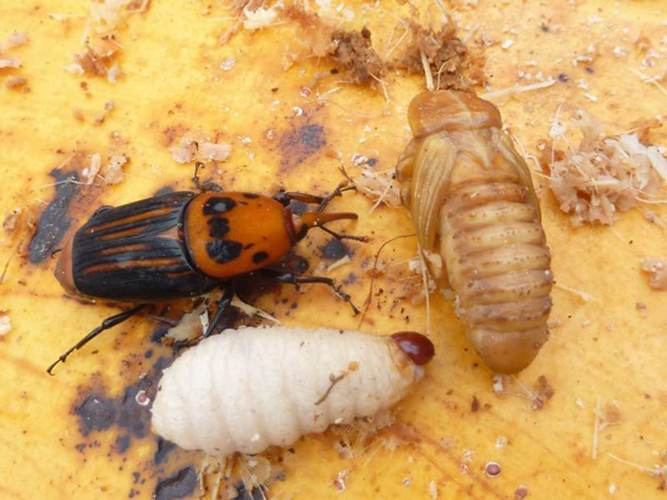Curculionidae: (46, 139, 372, 376)
